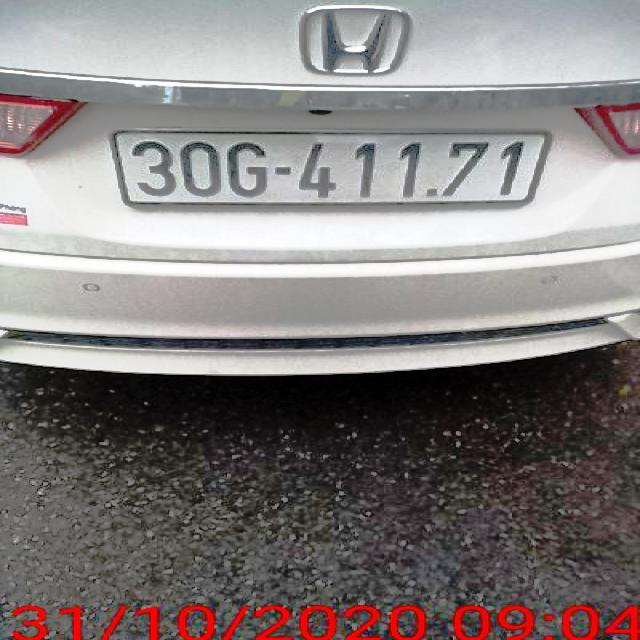license_plate: (115, 131, 551, 207)
